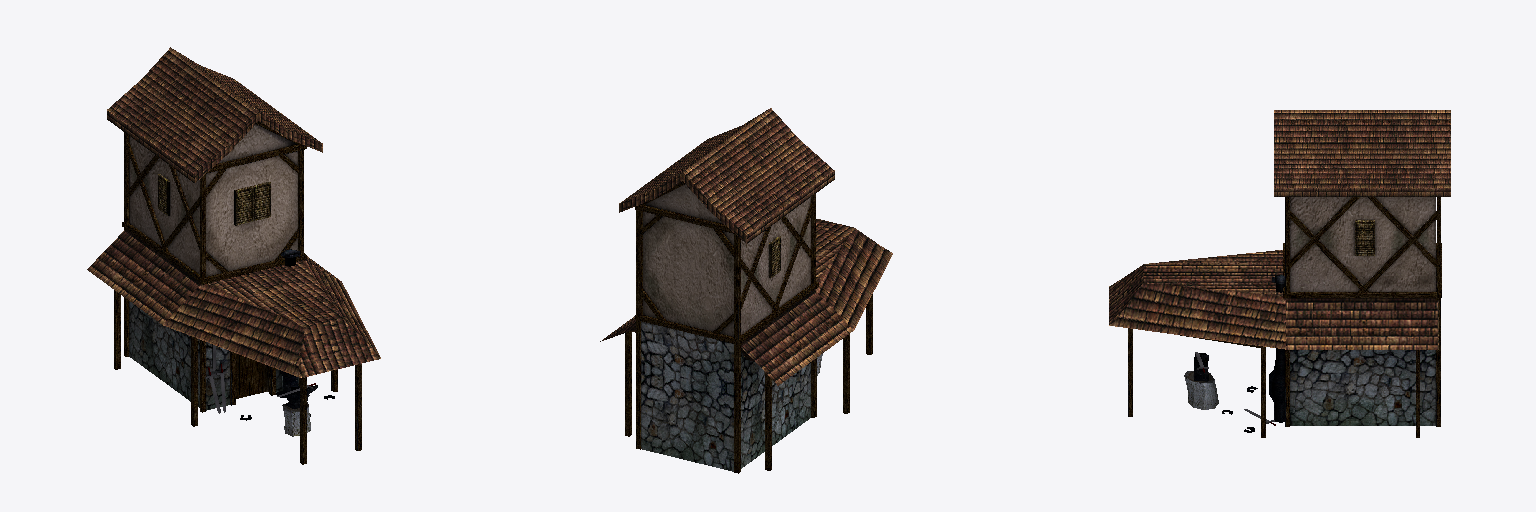
3 views of the same model, side by side, from view 1: azimuth 30°, elevation 25°; view 2: azimuth 150°, elevation 25°; view 3: azimuth 270°, elevation 25° (orthographic).
Parts seen in each view (by area): view 1: Box01; view 2: Box01; view 3: Box01.
Part boxes in pixels (x1,y1,x2,y2): Box01: (87,47,380,464); Box01: (600,108,892,473); Box01: (1109,110,1450,437).
Bounding box in the file's own units: 220 × 342 × 362.
1 materials, 1 textured.